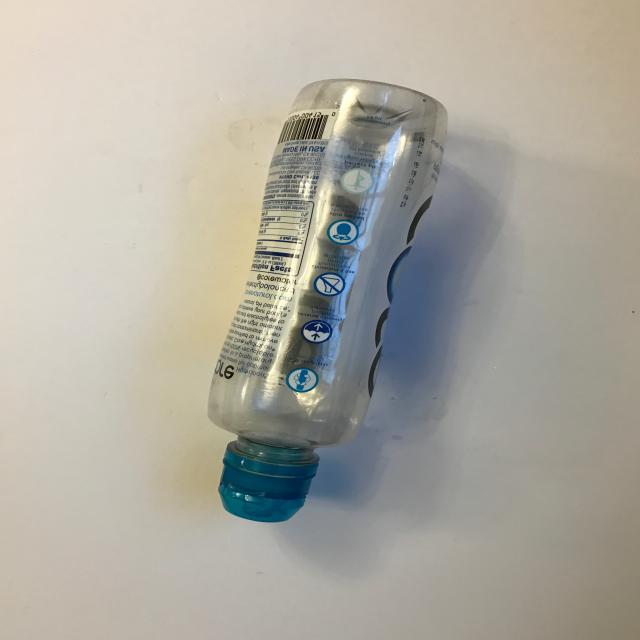plastic: (120, 41, 467, 597)
